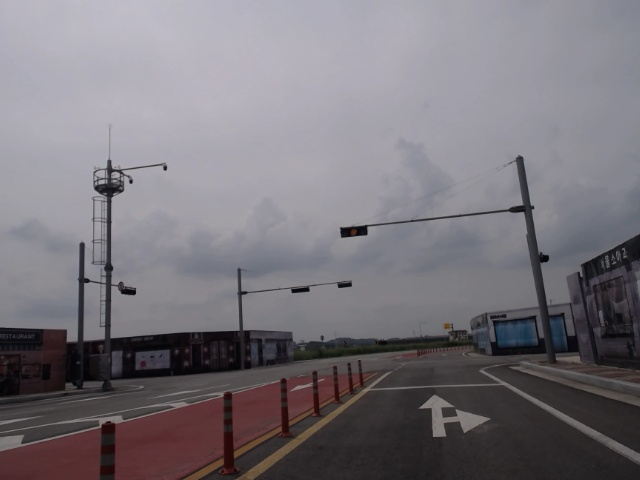orange_3: (341, 225, 367, 238)
